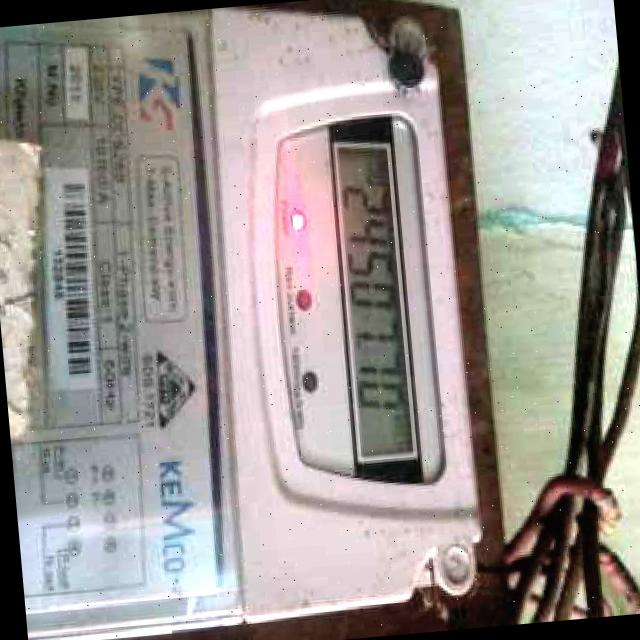LCD: (316, 128, 426, 478)
